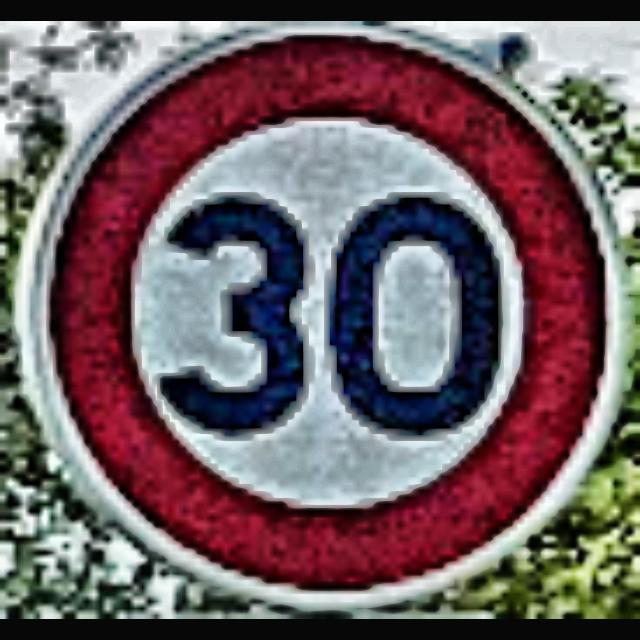speed_30: (53, 33, 611, 595)
